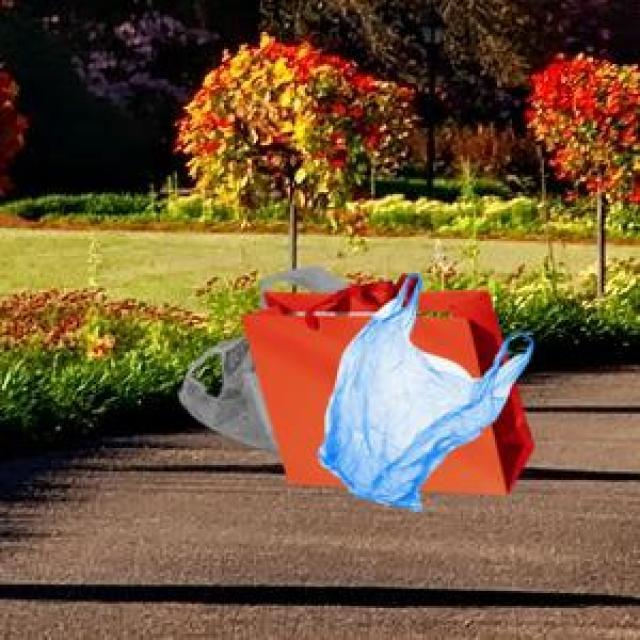paper: (237, 271, 529, 491)
